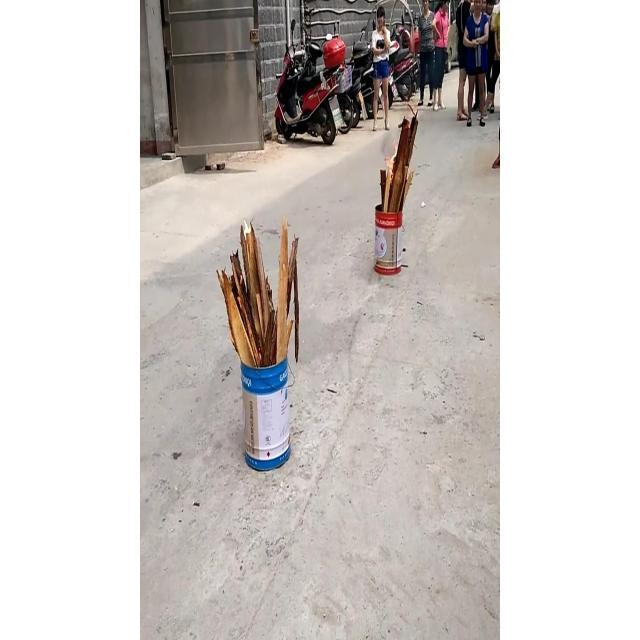Smoke: (378, 126, 396, 160)
